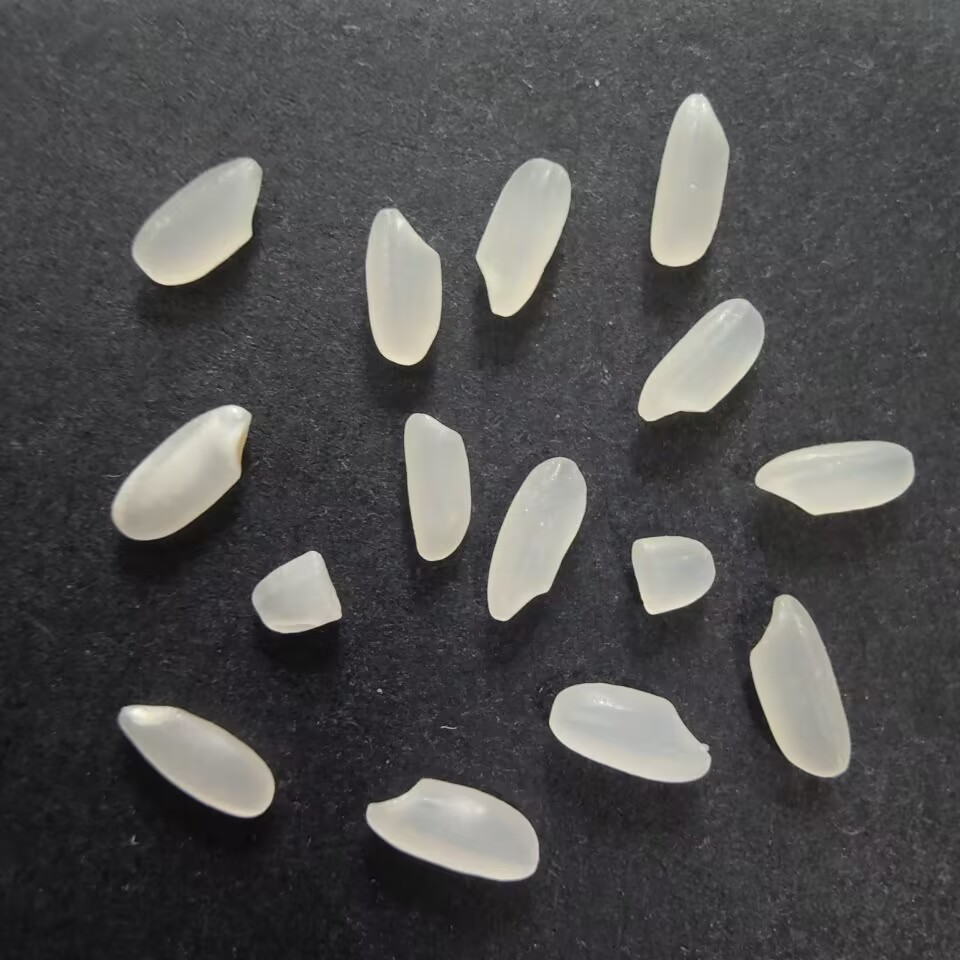broken: (248, 544, 347, 641), (623, 531, 717, 620)
rice: (745, 587, 858, 781), (356, 773, 540, 886), (113, 701, 276, 827), (108, 402, 251, 545), (541, 676, 717, 786), (128, 153, 263, 292), (630, 295, 769, 427), (483, 452, 588, 625), (472, 152, 575, 319), (644, 87, 736, 272), (359, 202, 448, 372), (749, 435, 916, 518), (396, 408, 476, 566)
